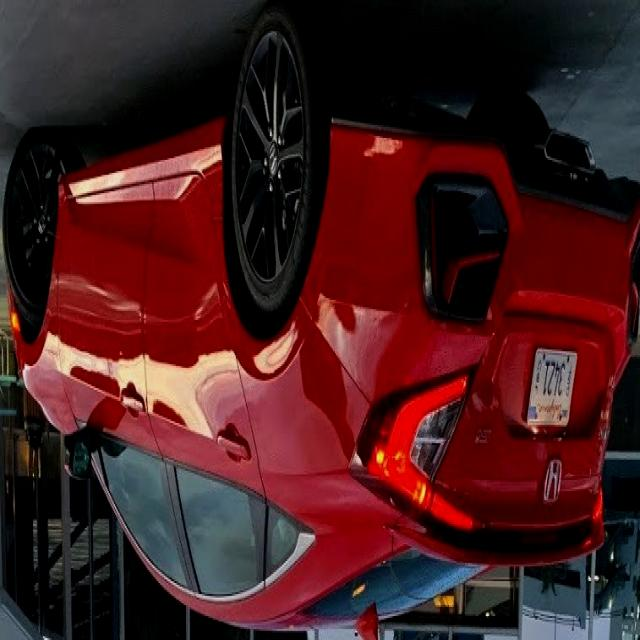red: (2, 129, 632, 629)
